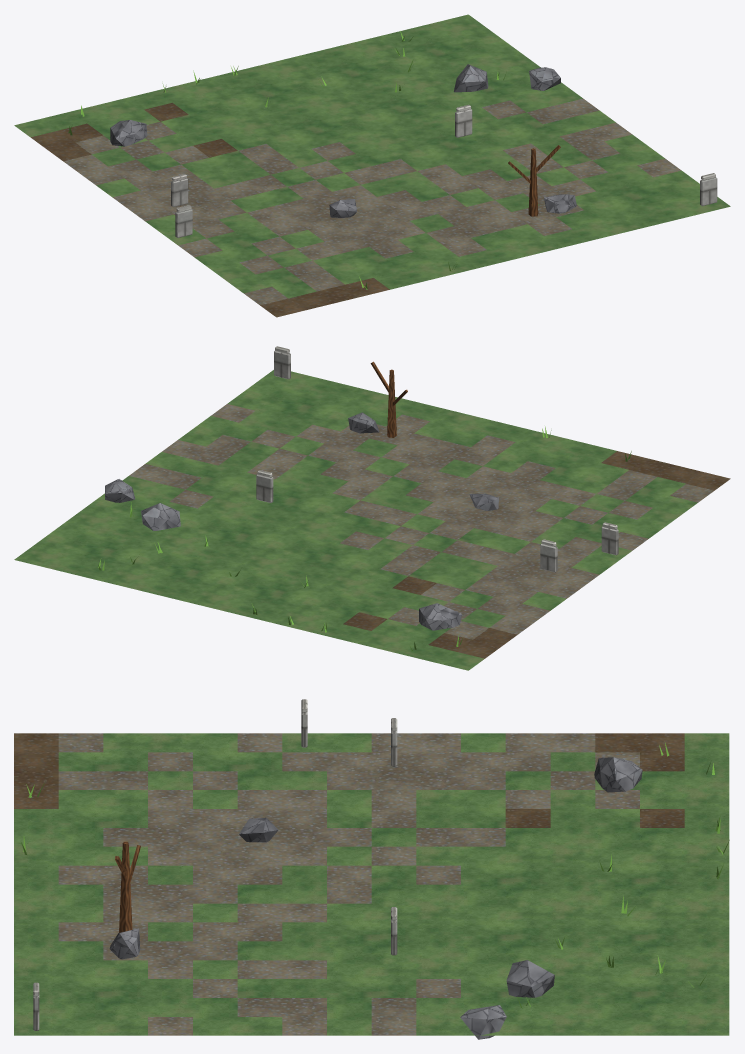
File: chunk_0_19.glb
3 renders of one model, top to bottom at view 1: azimuth 30°, elevation 25°; view 2: azimuth 150°, elevation 25°; view 3: azimuth 270°, elevation 25°, orthographic. The views are drawn at different scales.
Visible parts, largest first — view 1: chunk_0_19; view 2: chunk_0_19; view 3: chunk_0_19.
Boxes of the visible parts, x1=… form: chunk_0_19: x1=14, y1=14, x2=730, y2=317; chunk_0_19: x1=14, y1=346, x2=730, y2=670; chunk_0_19: x1=14, y1=699, x2=729, y2=1039.
Size of the model in its own units: 16.02 by 2.63 by 16.04.
8 materials, 7 textured.
